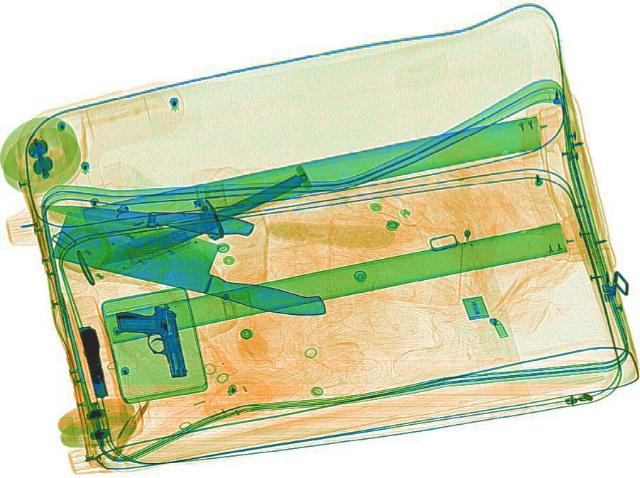Gun: (108, 301, 190, 380), (73, 322, 113, 395)
Knife: (43, 207, 344, 321), (92, 167, 312, 271), (36, 191, 254, 237)
